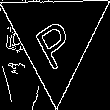P_NW: (30, 6, 81, 69)
